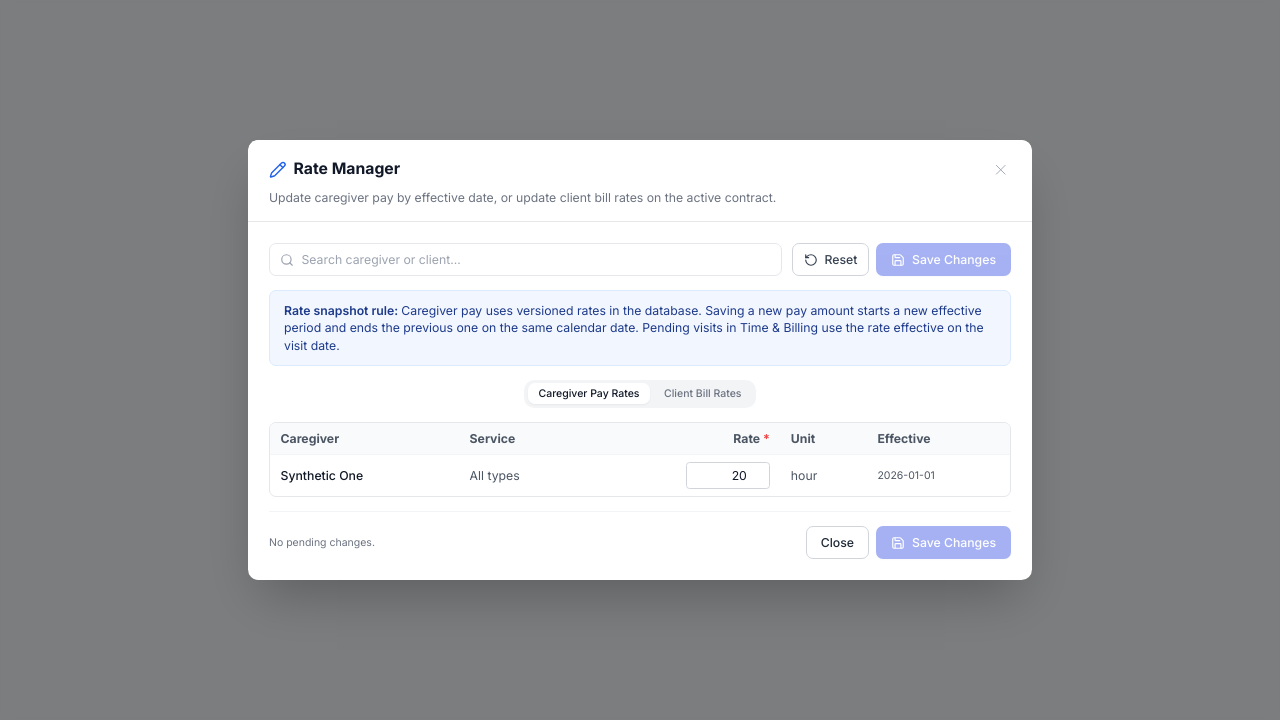
Test case: rate manager does not turn a blank pay amount into zero
Clear the number field named "Pay rate for Synthetic One". click: (728, 476)
box: 686,462 -> 770,489
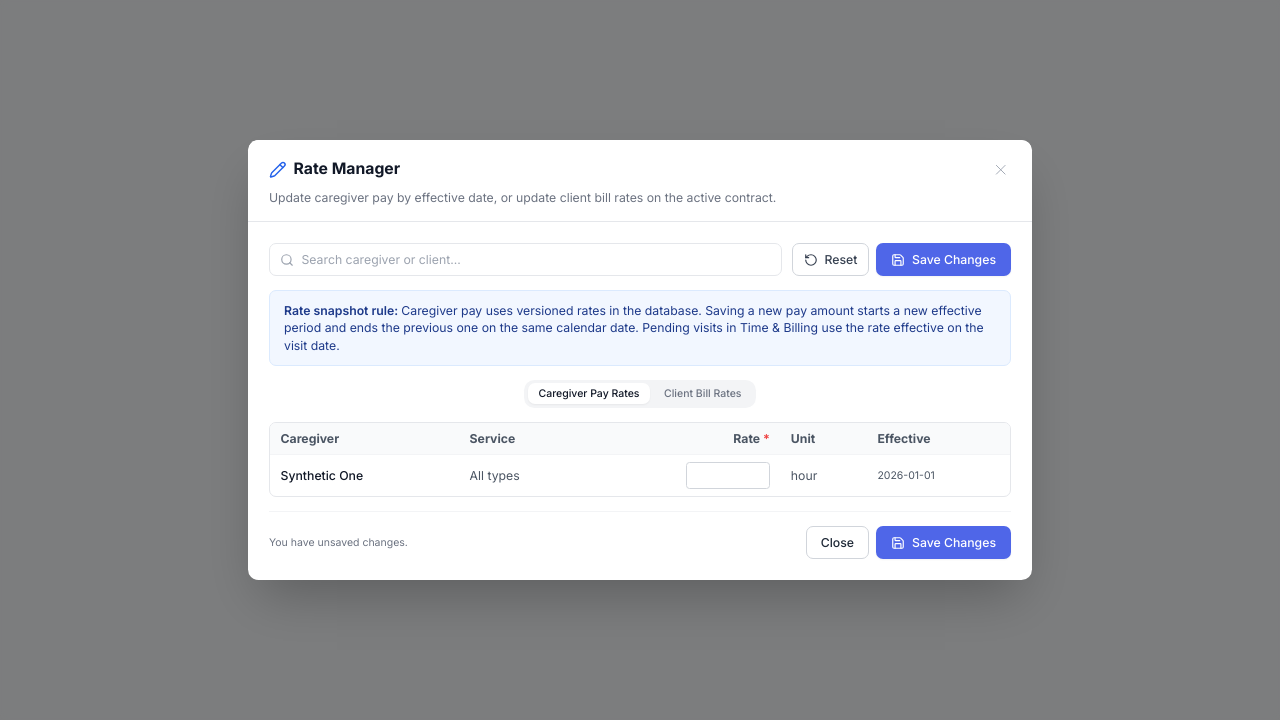
Click the 1st button "Save Changes". click: (944, 260)
box: 876,243 -> 1011,276
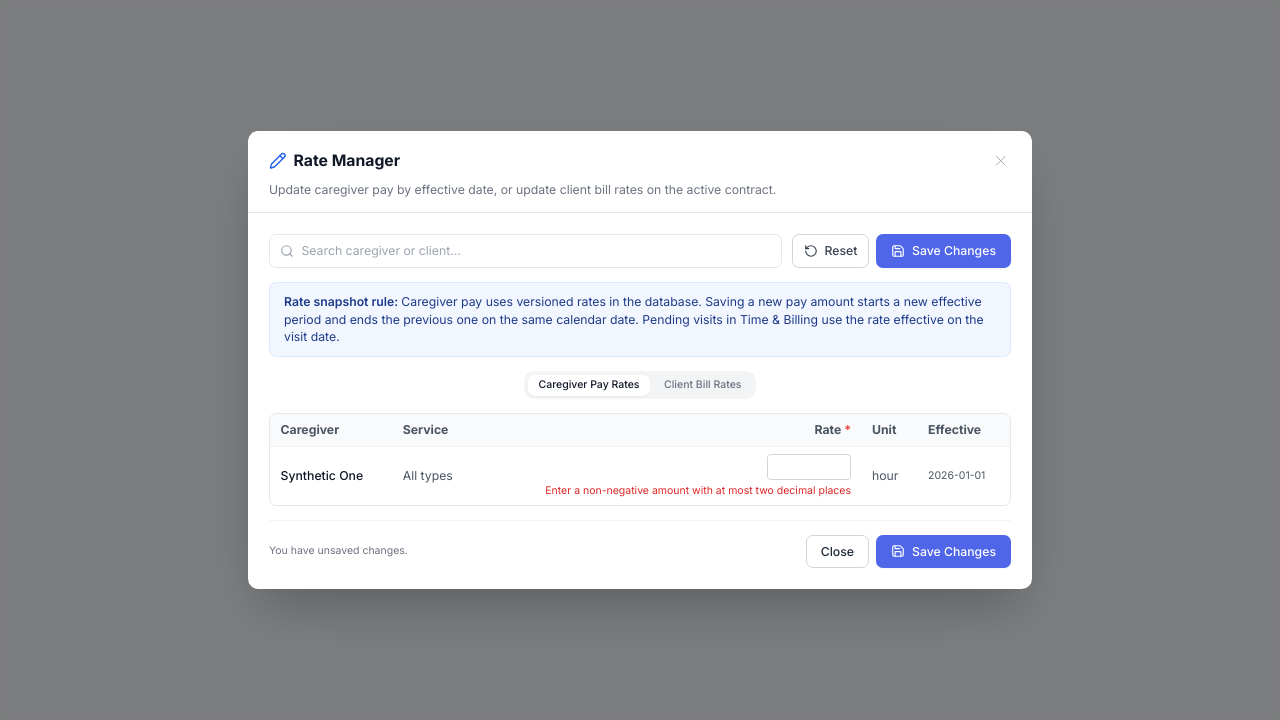
expect the text "Enter a non-negative amount with at most two decimal places" is shown: met, box 545,484 -> 851,496
